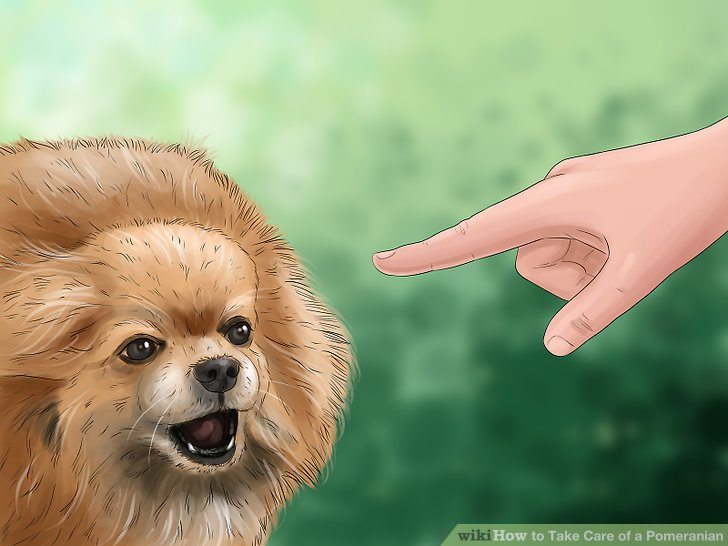pomeranian: (1, 127, 372, 513)
